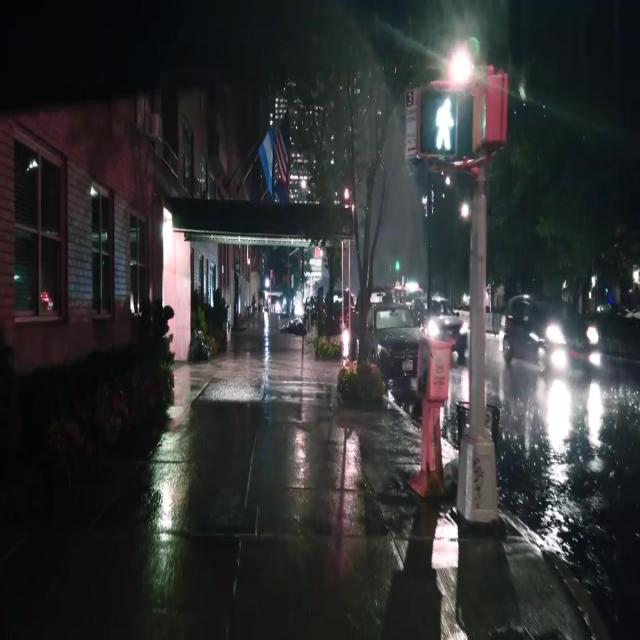Car: (499, 289, 594, 371), (370, 299, 417, 385), (415, 294, 464, 351)
